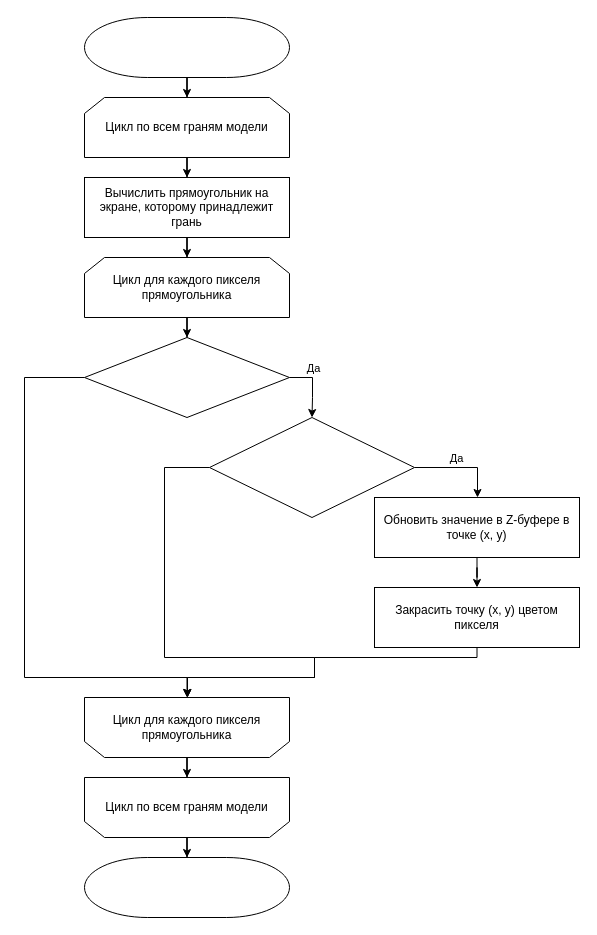
Image size: 597x935. Some labels were removed from this diagram. The shapes that lost their labels are listed below. From the top down, each one's centre as x and y in pixels, then its label:
At point 187,47: "Начало".
At point 187,377: "Пиксель находится внутри грани?".
At point 311,467: "Координата Z пикселя больше значения в Z-буфере в точке (x, y)?".
At point 187,887: "Конец".
